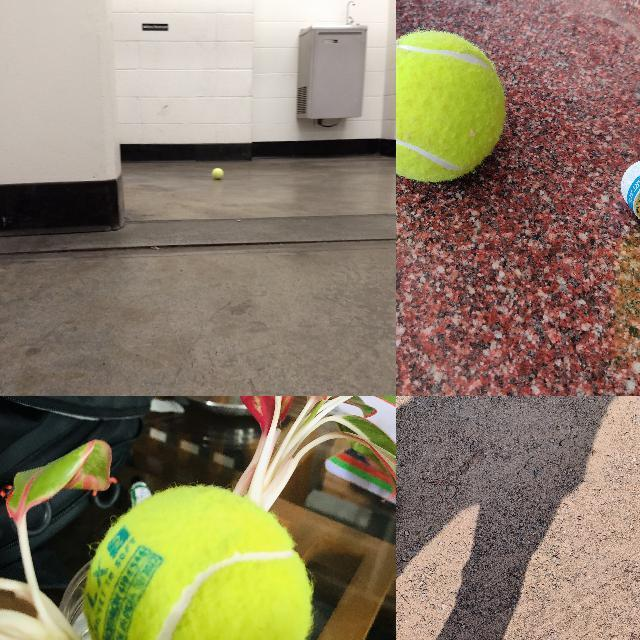tennis-ball: (84, 485, 311, 639), (396, 31, 506, 180), (211, 168, 223, 179)
